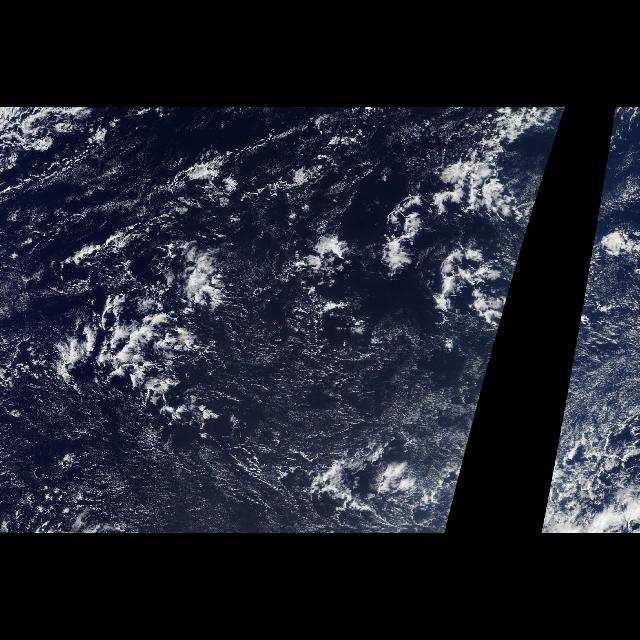Fish: (21, 178, 276, 384)
Gravel: (45, 213, 246, 449)
Sugar: (6, 316, 504, 534), (539, 316, 639, 534)
